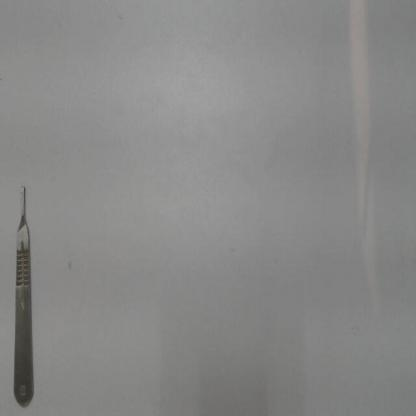No.3 BP Handle: (11, 177, 35, 413)
